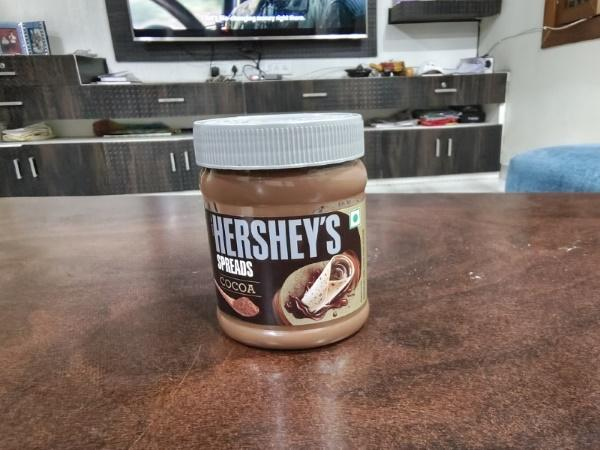Hershey-s: (185, 108, 383, 355)
